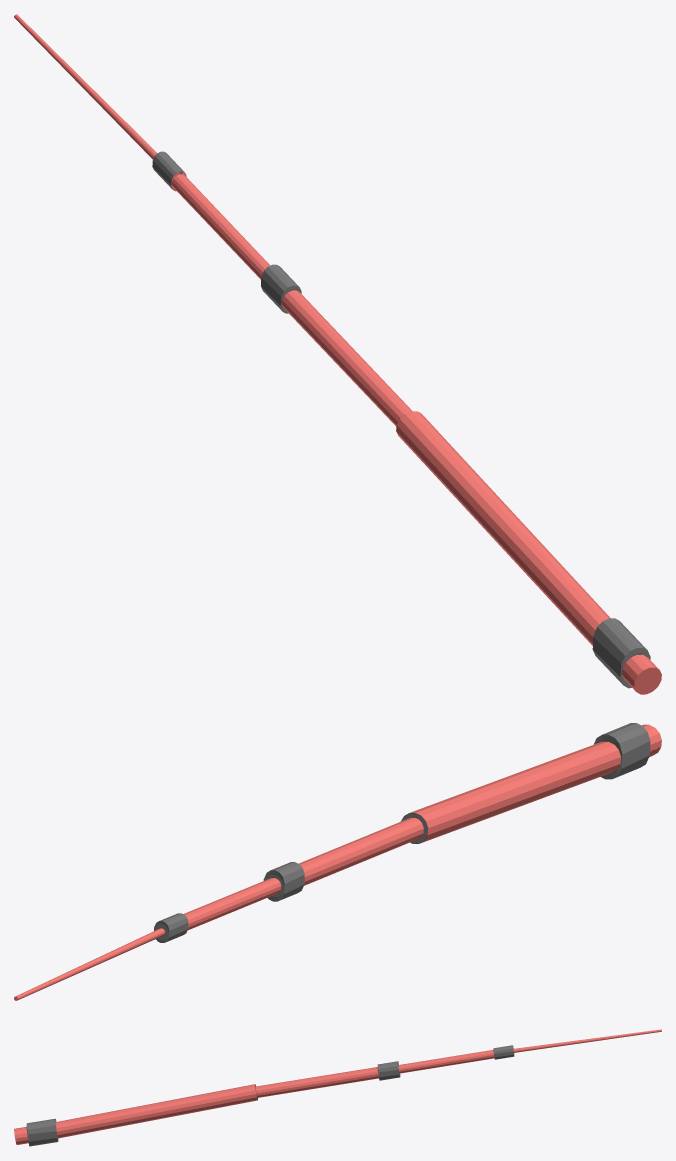
File: FishinRod4.2.glb
3 views of the same model, one above another, from view 1: azimuth 30°, elevation 25°; view 2: azimuth 150°, elevation 25°; view 3: azimuth 270°, elevation 25° (orthographic). The views are drawn at different scales.
Visible parts, largest first — view 1: Pole; view 2: Pole; view 3: Pole.
Part boxes in pixels (x1=…): Pole: x1=14, y1=14, x2=661, y2=694; Pole: x1=14, y1=723, x2=661, y2=1000; Pole: x1=14, y1=1029, x2=661, y2=1146.
Bounding box in the file's own units: 0.5247 × 3.54 × 18.
Materials: 2 (2 with a texture image).
